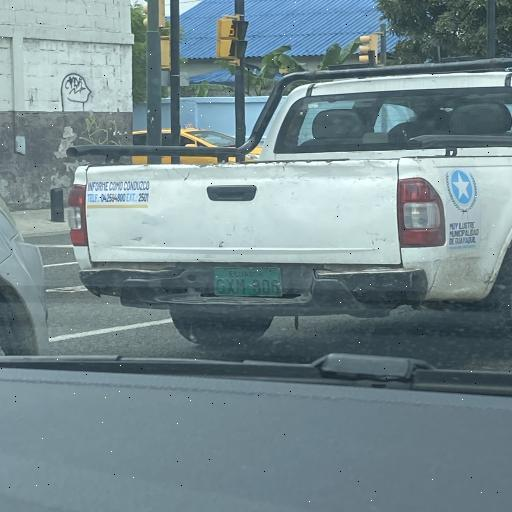license_plate: (216, 278, 226, 295), (236, 279, 246, 295), (226, 279, 236, 294), (271, 279, 280, 294), (252, 280, 261, 294), (262, 280, 270, 294)
